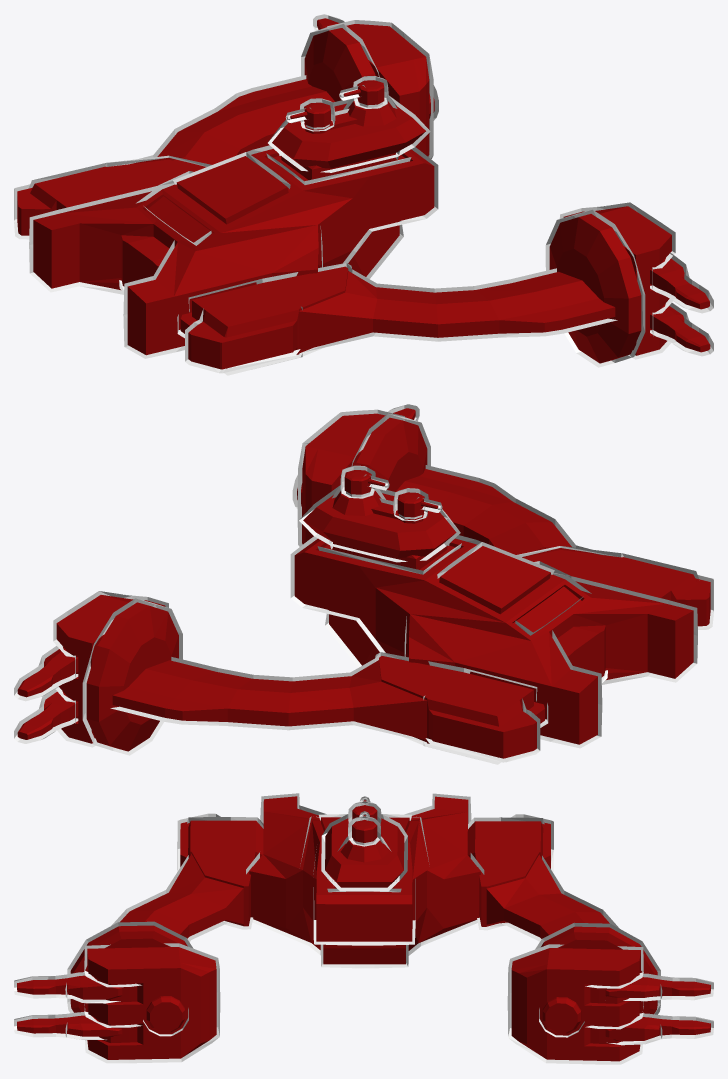
File: ship7_red.glb
3 views of the same model, one above another, from view 1: azimuth 30°, elevation 25°; view 2: azimuth 150°, elevation 25°; view 3: azimuth 270°, elevation 25° (orthographic). The views are drawn at different scales.
Parts seen in each view (by area): view 1: ME_ship_IndexedFaceSet; view 2: ME_ship_IndexedFaceSet; view 3: ME_ship_IndexedFaceSet.
Part boxes in pixels (bbox=[...]): ME_ship_IndexedFaceSet: bbox=[14, 14, 713, 375]; ME_ship_IndexedFaceSet: bbox=[14, 404, 713, 764]; ME_ship_IndexedFaceSet: bbox=[14, 793, 713, 1064].
Size of the model in its own units: 238 by 105 by 355.
